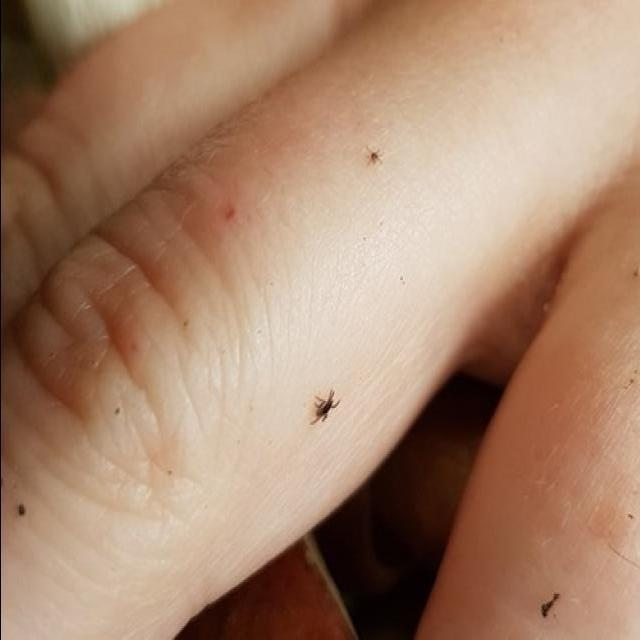Ixodes Ricinus-F: (300, 384, 342, 428)
